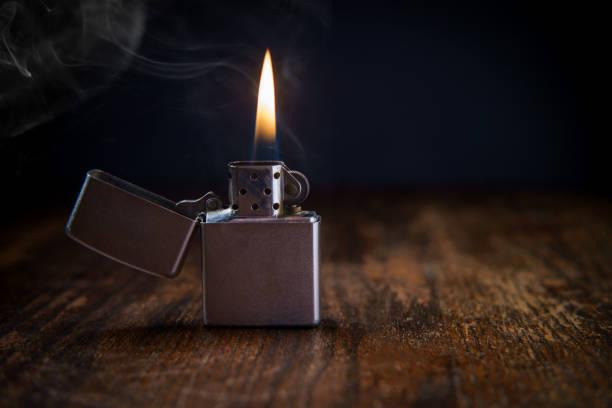Fire: (250, 48, 285, 164)
